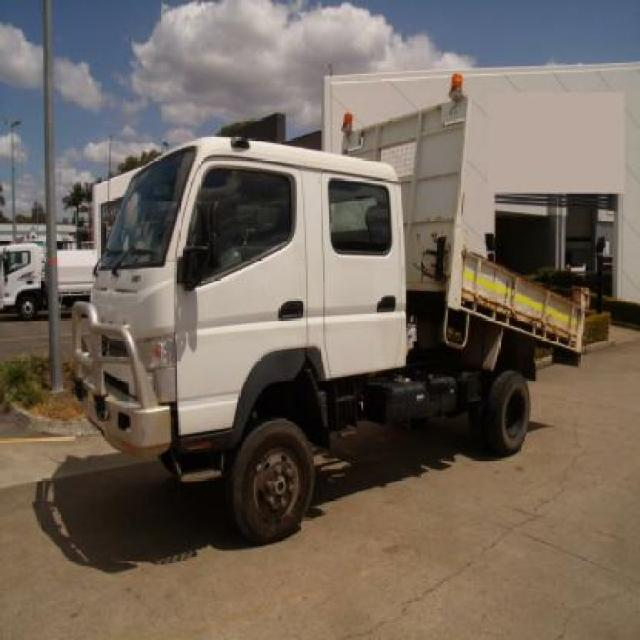truck: (61, 76, 590, 543)
